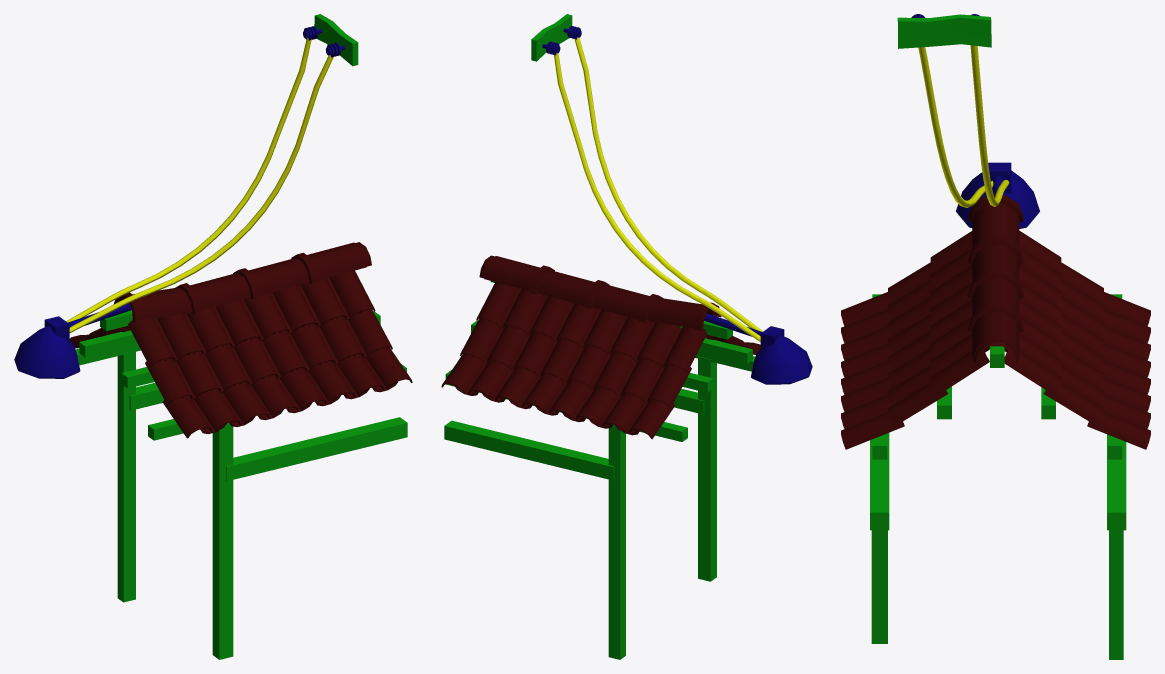
The model's file is entradaTelhado.FBX.
3 views of the same model, side by side, from view 1: azimuth 30°, elevation 25°; view 2: azimuth 150°, elevation 25°; view 3: azimuth 270°, elevation 25° (orthographic). The views are drawn at different scales.
Visible parts, largest first — view 1: entradaTelhado; view 2: entradaTelhado; view 3: entradaTelhado.
Part boxes in pixels (x1,y1,x2,y2): entradaTelhado: [14, 14, 412, 659]; entradaTelhado: [441, 14, 812, 659]; entradaTelhado: [841, 14, 1150, 659].
Bounding box in the file's own units: 337 × 550 × 213.
